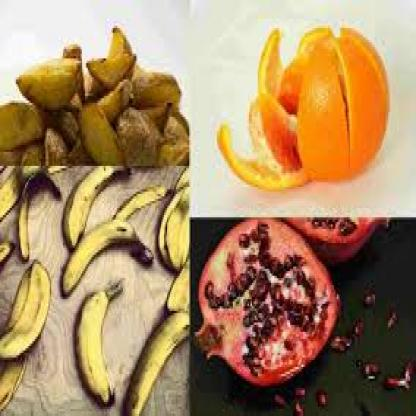Disposable tableware: (3, 12, 416, 409)
